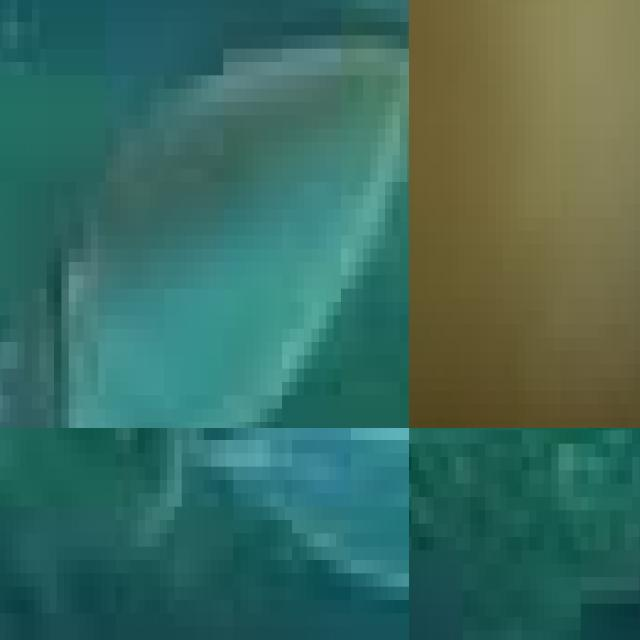fish: (0, 0, 409, 428)
